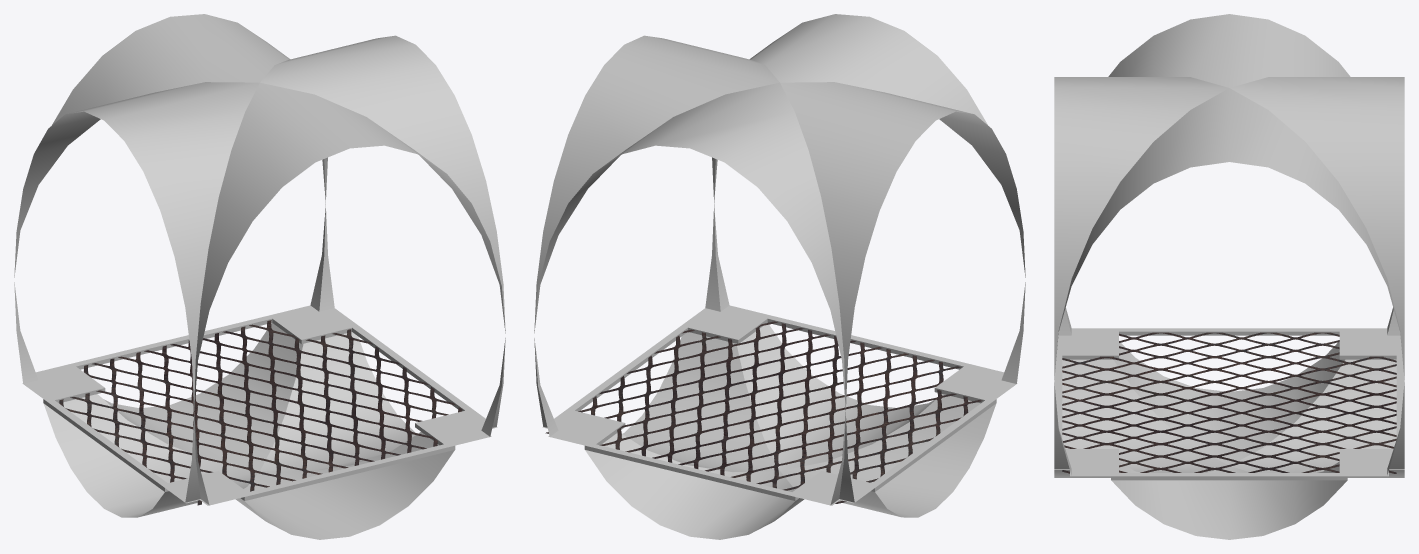
The model's file is Module_Cross.fbx.
The picture shows the model from 3 angles, left to right: view 1: azimuth 30°, elevation 25°; view 2: azimuth 150°, elevation 25°; view 3: azimuth 270°, elevation 25°; orthographic projection. The views are drawn at different scales.
Parts seen in each view (by area): view 1: Module_Cross; view 2: Module_Cross; view 3: Module_Cross.
Part boxes in pixels (bbox=[...]): Module_Cross: bbox=[14, 14, 505, 539]; Module_Cross: bbox=[534, 14, 1025, 539]; Module_Cross: bbox=[1054, 14, 1404, 539].
Bounding box in the file's own units: 902 × 1074 × 902.
